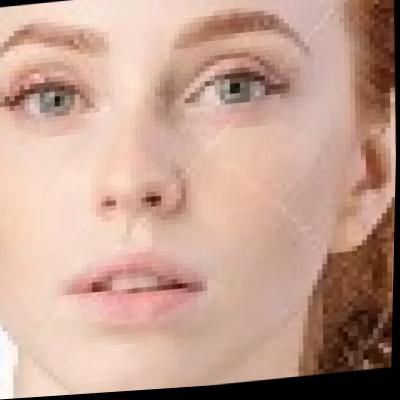netural: (0, 0, 370, 393)
